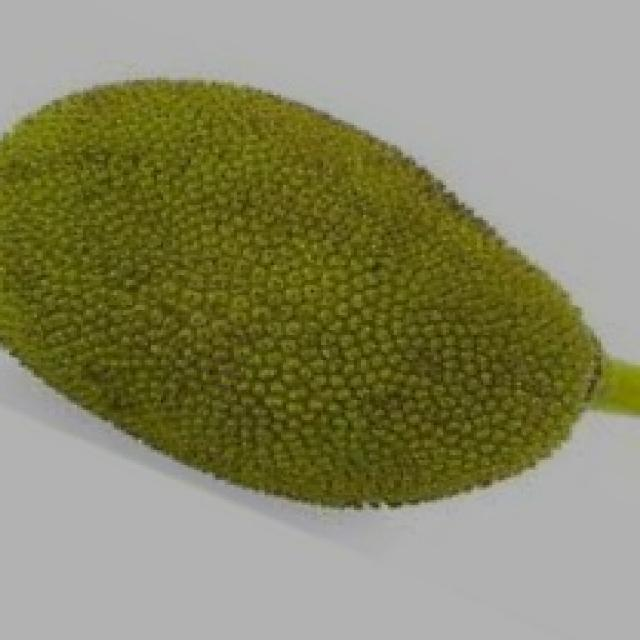Fruit: (0, 55, 406, 437), (264, 138, 634, 542)
